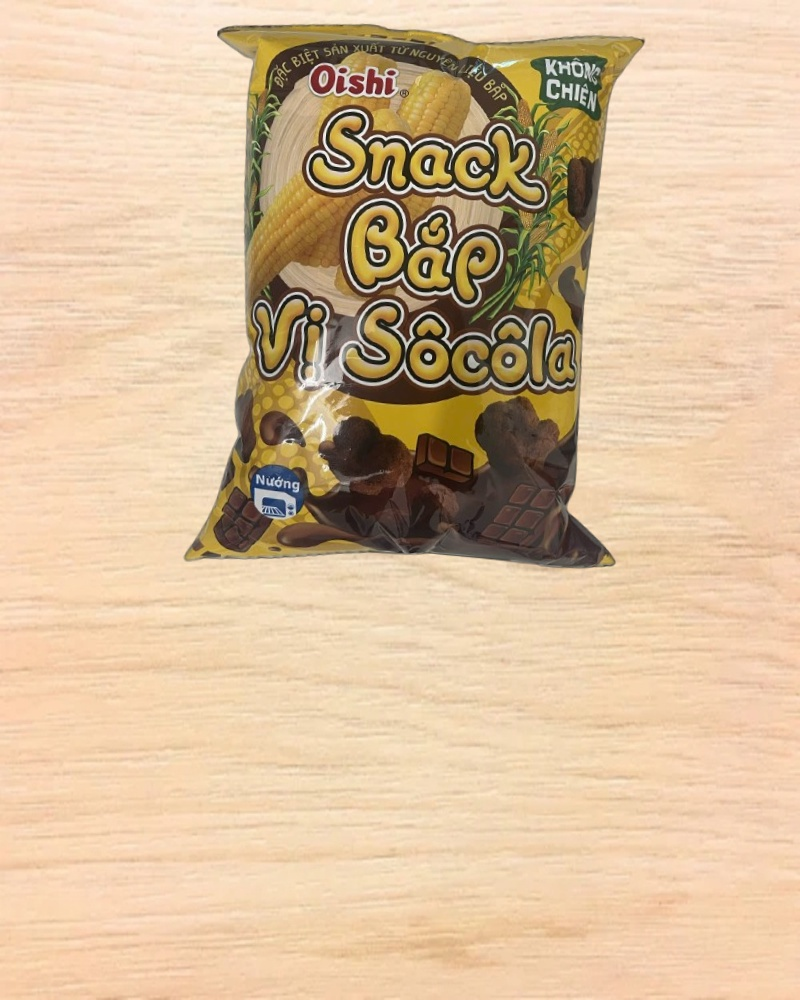Snack socola: (175, 6, 661, 587)
